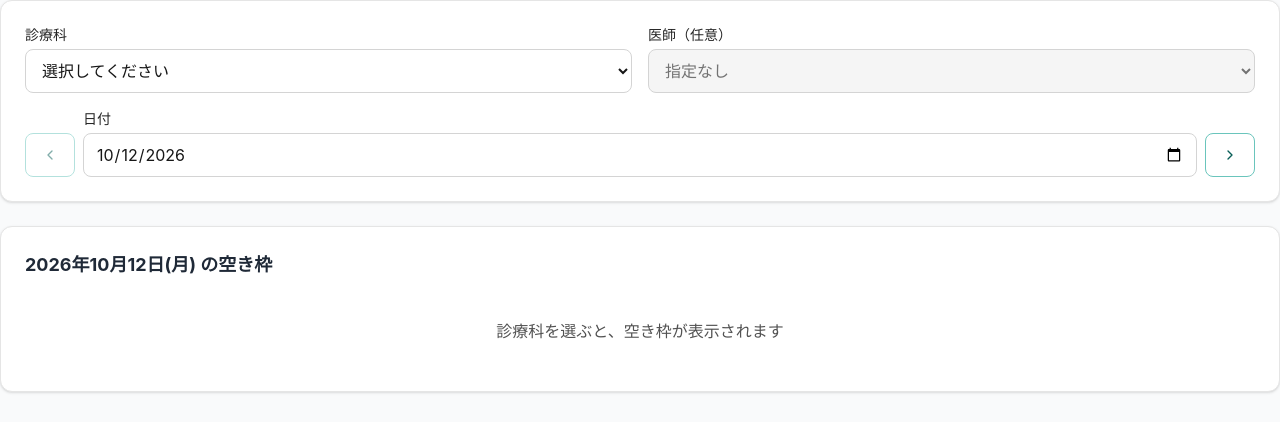
Test: BookingFlow（予約の流れ） › 診療科を選ぶと医師を絞り込め、今日の空き枠を表示する
Select "内科" in the dropdown labelled "診療科". click: (328, 71)
box: [25,49,632,93]
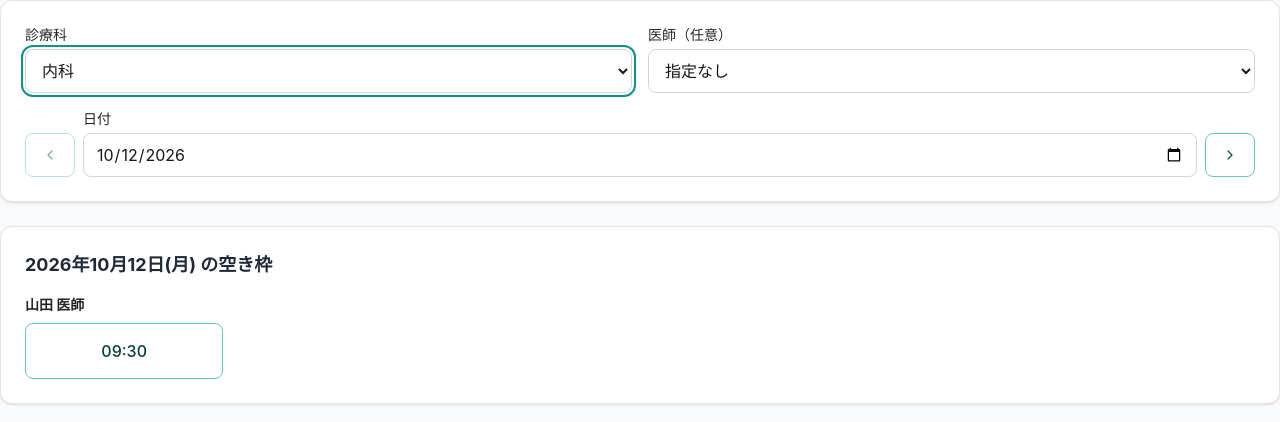
Result: the button "09:30" is shown at [25,323,223,379]
